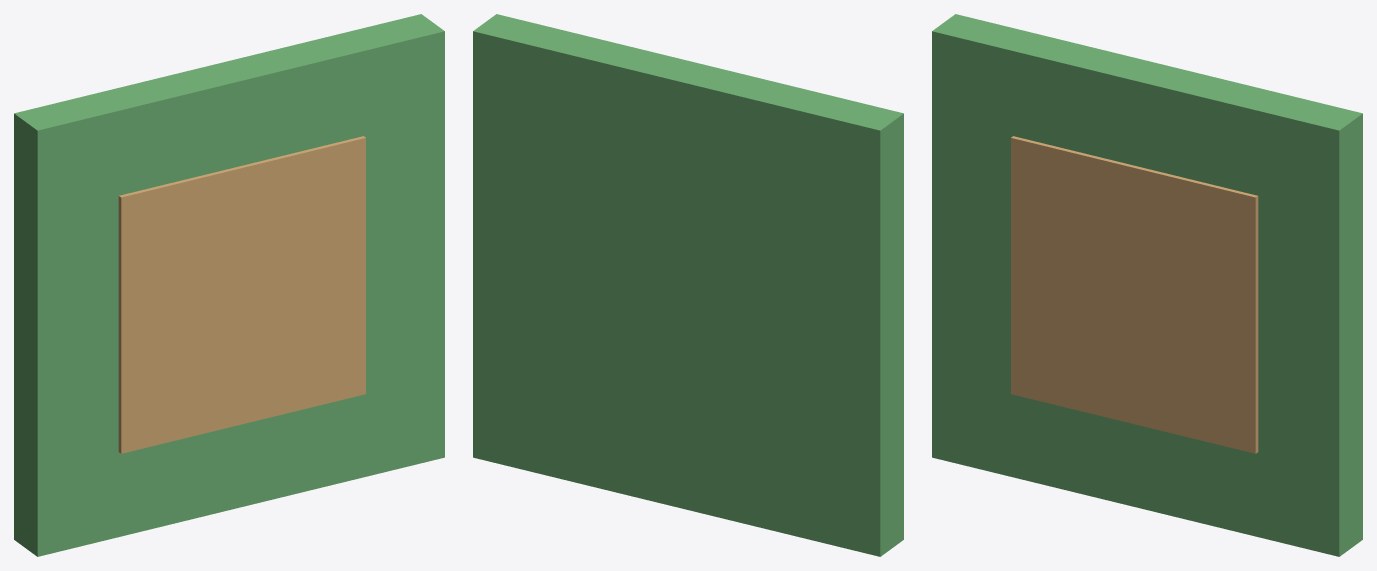
File: board.glb
3 views of the same model, side by side, from view 1: azimuth 30°, elevation 25°; view 2: azimuth 150°, elevation 25°; view 3: azimuth 330°, elevation 25° (orthographic).
Visible parts, largest first — view 1: Substrate_Layer_0, Substrate_Layer_1; view 2: Substrate_Layer_0; view 3: Substrate_Layer_0, Substrate_Layer_1.
Boxes of the visible parts, x1,y1,x2,y2 form: Substrate_Layer_0: (14,14,444,556); Substrate_Layer_1: (118,136,365,453); Substrate_Layer_0: (473,14,903,556); Substrate_Layer_0: (932,14,1362,556); Substrate_Layer_1: (1011,136,1258,453).
Size of the model in its own units: 0.00998 by 0.00998 by 0.0011.
